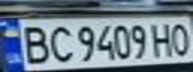0: (112, 22, 133, 61)
4: (93, 21, 115, 61)
9: (127, 21, 151, 60), (72, 23, 96, 62)
B: (15, 22, 51, 65)
C: (45, 24, 75, 64)
H: (148, 20, 175, 57)
O: (166, 20, 193, 56)
